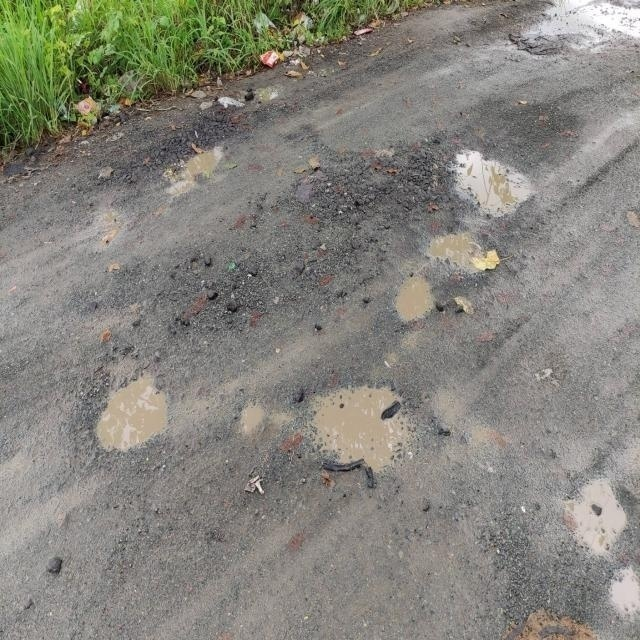pothole: (293, 349, 423, 505), (89, 320, 188, 497), (382, 224, 513, 346), (446, 122, 557, 224), (152, 123, 252, 214)
